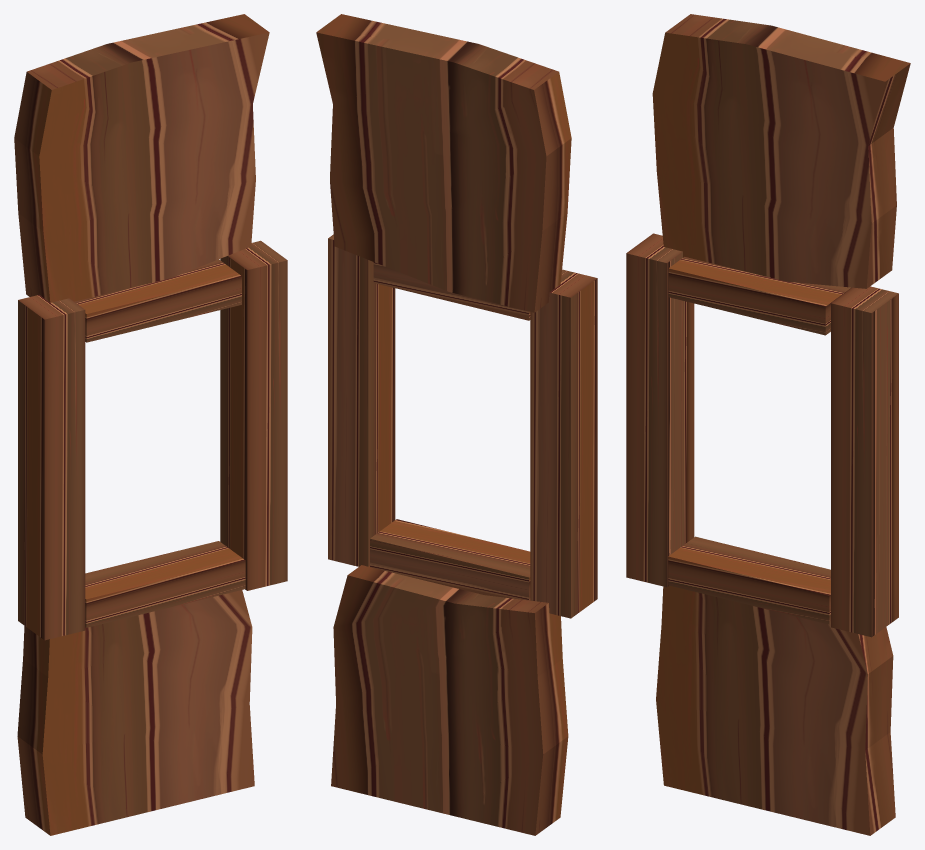
File: MSH_Piso1_Ventana04.FBX
3 views of the same model, side by side, from view 1: azimuth 30°, elevation 25°; view 2: azimuth 150°, elevation 25°; view 3: azimuth 330°, elevation 25° (orthographic).
Parts seen in each view (by area): view 1: MSH_Piso1_Ventana04; view 2: MSH_Piso1_Ventana04; view 3: MSH_Piso1_Ventana04.
Boxes of the visible parts, x1,y1,x2,y2 form: MSH_Piso1_Ventana04: (14, 14, 287, 835); MSH_Piso1_Ventana04: (316, 14, 597, 835); MSH_Piso1_Ventana04: (626, 14, 910, 835).
Bounding box in the file's own units: 36.46 × 108 × 10.63.
1 material, 1 textured.
